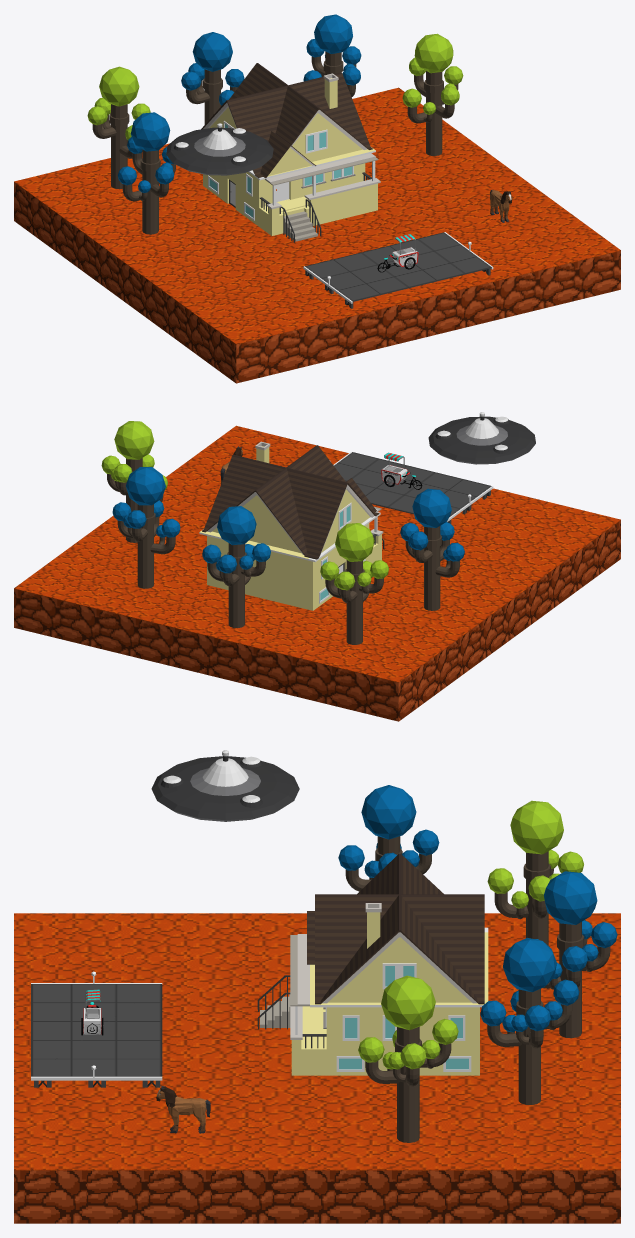
The picture shows the model from 3 angles, top to bottom: view 1: azimuth 30°, elevation 25°; view 2: azimuth 150°, elevation 25°; view 3: azimuth 270°, elevation 25°; orthographic projection. The views are drawn at different scales.
Visible parts, largest first — view 1: Cube.001, Cube.1555, OBJRANDOM_UFO, VEHICLES_SNOWBAL_BIKE, ANIMAL_CABALLO; view 2: Cube.001, Cube.1555, OBJRANDOM_UFO, VEHICLES_SNOWBAL_BIKE; view 3: Cube.001, Cube.1555, OBJRANDOM_UFO, ANIMAL_CABALLO, VEHICLES_SNOWBAL_BIKE.
Boxes of the visible parts, left/top/right/bottom form: Cube.001: left=14, top=14, right=620, bottom=383; Cube.1555: left=201, top=63, right=380, bottom=242; OBJRANDOM_UFO: left=166, top=123, right=273, bottom=175; VEHICLES_SNOWBAL_BIKE: left=377, top=234, right=418, bottom=272; ANIMAL_CABALLO: left=490, top=189, right=512, bottom=222; Cube.001: left=14, top=421, right=620, bottom=721; Cube.1555: left=199, top=441, right=384, bottom=610; OBJRANDOM_UFO: left=428, top=412, right=535, bottom=464; VEHICLES_SNOWBAL_BIKE: left=381, top=452, right=422, bottom=489; Cube.001: left=14, top=785, right=620, bottom=1223; Cube.1555: left=257, top=853, right=488, bottom=1075; OBJRANDOM_UFO: left=151, top=750, right=299, bottom=821; ANIMAL_CABALLO: left=156, top=1086, right=210, bottom=1133; VEHICLES_SNOWBAL_BIKE: left=80, top=989, right=103, bottom=1035.
Size of the model in its own units: 4000 by 1964 by 4000.
37 materials, 4 textured.
